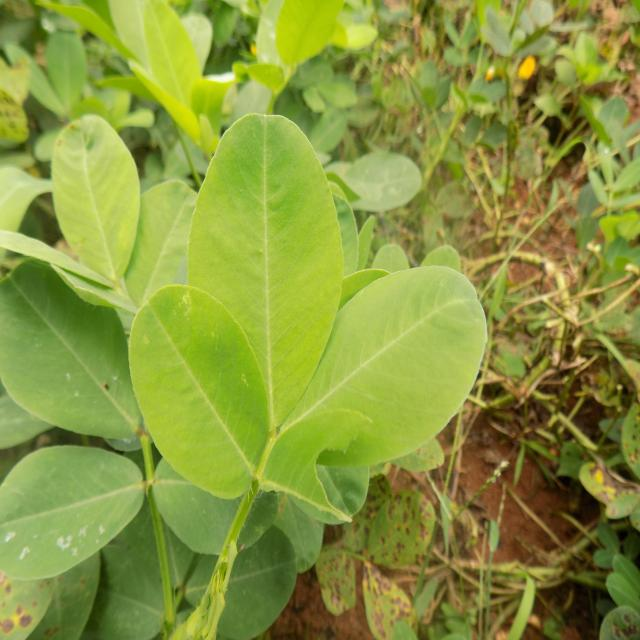Ground nut_healthy: (184, 108, 347, 446), (280, 270, 488, 472), (132, 296, 274, 500), (0, 265, 136, 438), (5, 449, 140, 584), (49, 106, 144, 294)
